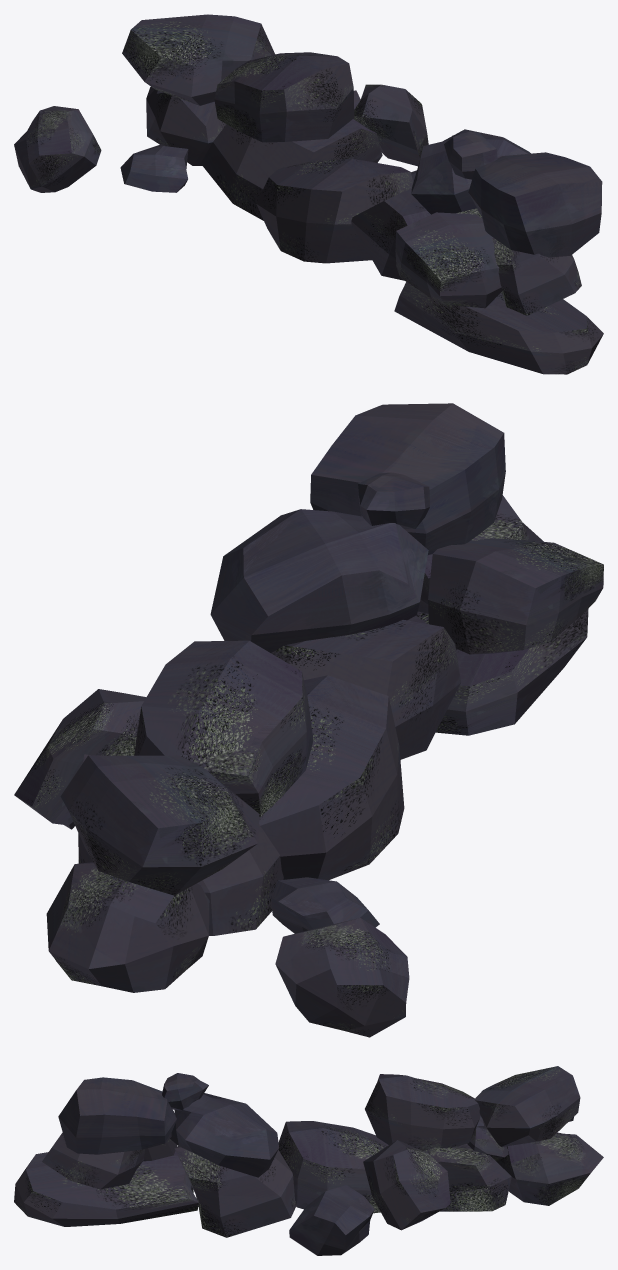
The model's file is Stonewall03.fbx.
3 renders of one model, top to bottom at view 1: azimuth 30°, elevation 25°; view 2: azimuth 150°, elevation 25°; view 3: azimuth 270°, elevation 25°, orthographic. The views are drawn at different scales.
Parts seen in each view (by area): view 1: stone_wall_03; view 2: stone_wall_03; view 3: stone_wall_03.
Part boxes in pixels (<box>): stone_wall_03: <box>14,14,603,374</box>; stone_wall_03: <box>14,403,603,1037</box>; stone_wall_03: <box>14,1066,603,1255</box>.
Size of the model in its own units: 2.12 by 1.08 by 4.05.
Materials: 2 (2 with a texture image).
